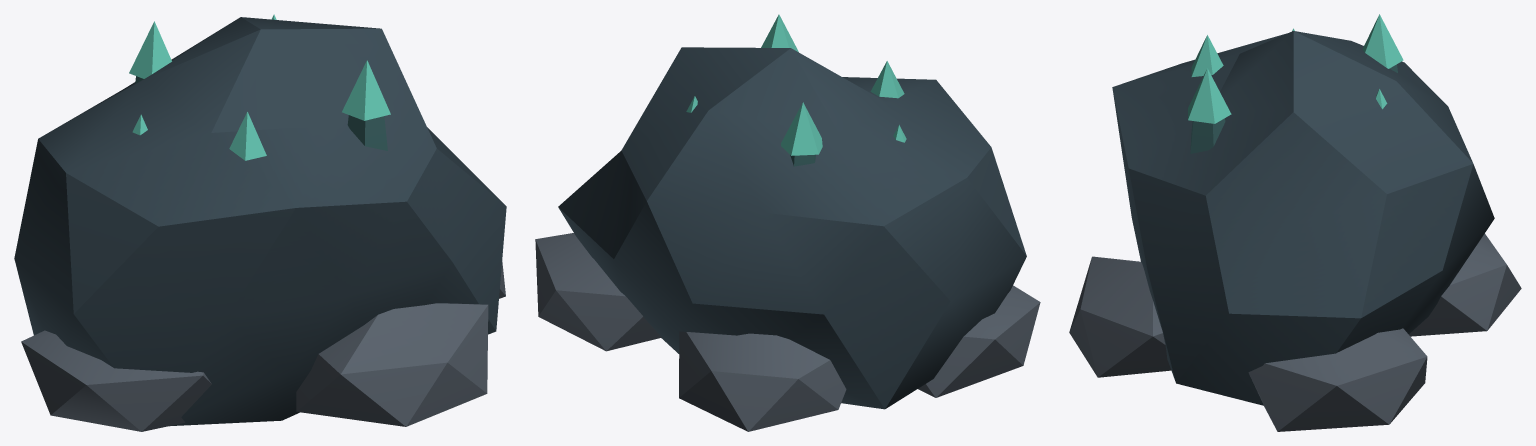
Rendered from ore_vein.glb.
3 views of the same model, side by side, from view 1: azimuth 30°, elevation 25°; view 2: azimuth 150°, elevation 25°; view 3: azimuth 270°, elevation 25° (orthographic). The views are drawn at different scales.
Parts seen in each view (by area): view 1: ore_vein; view 2: ore_vein; view 3: ore_vein.
Boxes of the visible parts, x1,y1,x2,y2 form: ore_vein: [14, 14, 506, 431]; ore_vein: [535, 14, 1040, 431]; ore_vein: [1069, 14, 1521, 431].
Size of the model in its own units: 1.85 by 1.22 by 1.59.
